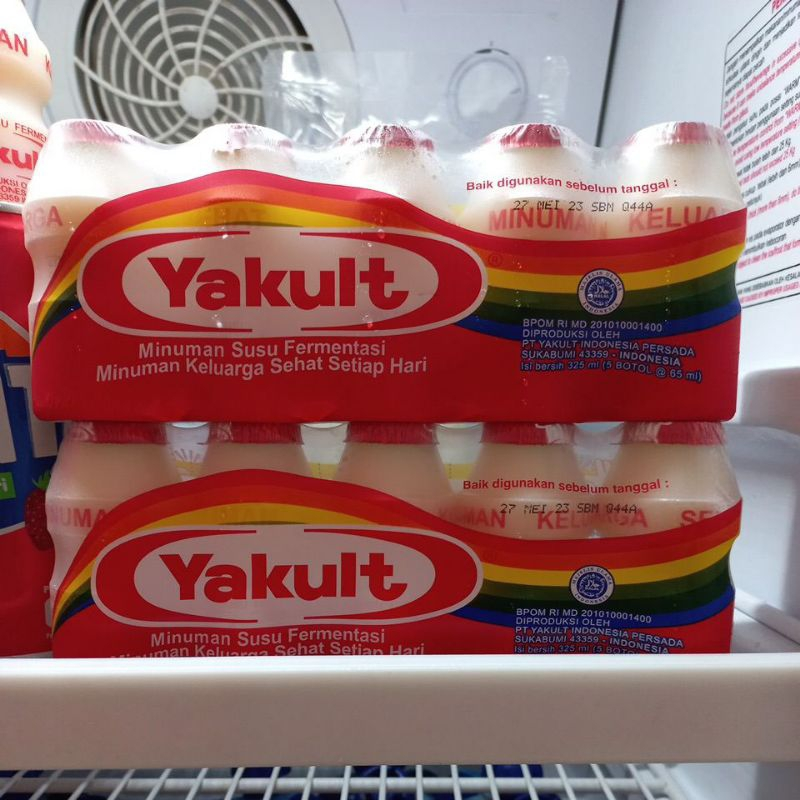Yakult (325ml): (19, 112, 739, 416), (36, 410, 729, 673)
